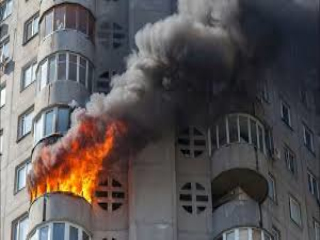fire: (25, 146, 108, 195)
smoke: (77, 16, 267, 141)
